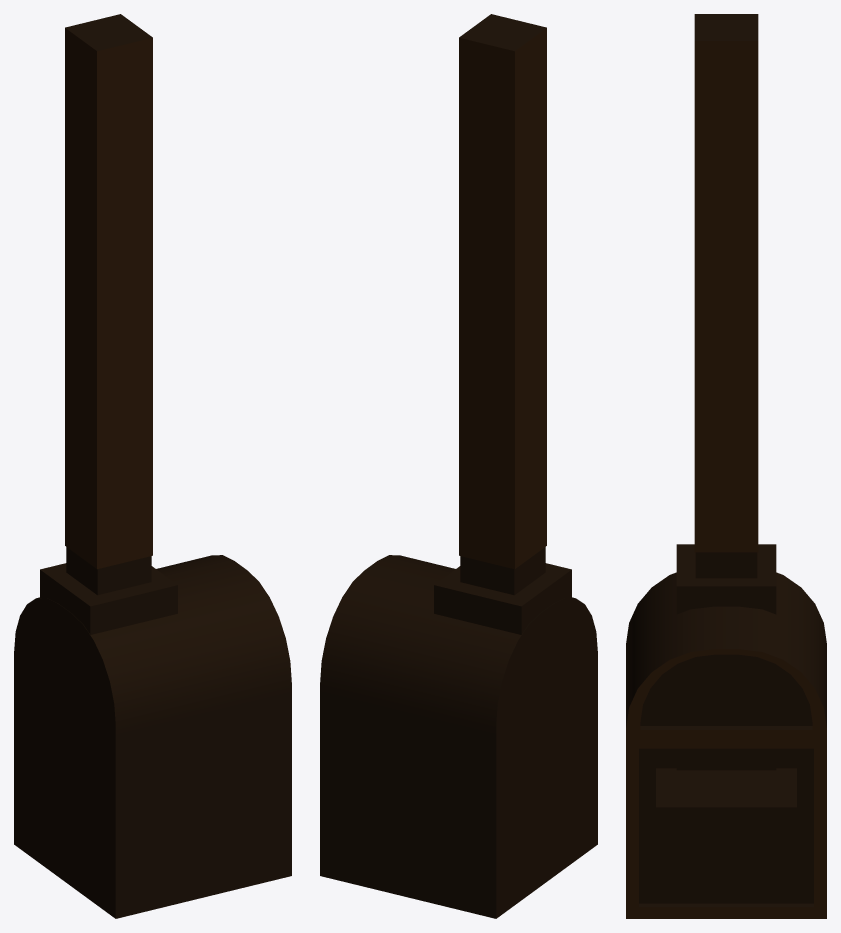
Rendered from pizza oven.obj.
The picture shows the model from 3 angles, left to right: view 1: azimuth 30°, elevation 25°; view 2: azimuth 150°, elevation 25°; view 3: azimuth 270°, elevation 25°; orthographic projection.
Visible parts, largest first — view 1: pizza_oven_Cube.001; view 2: pizza_oven_Cube.001; view 3: pizza_oven_Cube.001.
Part boxes in pixels (x1=…): pizza_oven_Cube.001: x1=14, y1=14, x2=291, y2=918; pizza_oven_Cube.001: x1=320, y1=14, x2=597, y2=918; pizza_oven_Cube.001: x1=626, y1=14, x2=826, y2=918.
Size of the model in its own units: 2.37 by 10.76 by 2.37.
